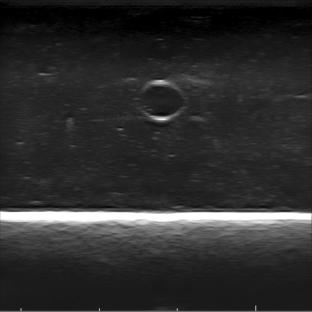vessel: (137, 78, 186, 121)
